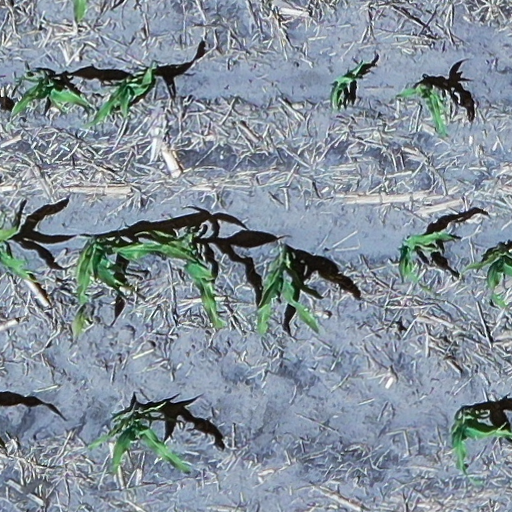planta: (110, 229, 225, 328), (88, 399, 196, 478), (69, 237, 134, 342), (256, 248, 319, 336), (83, 66, 156, 129), (11, 70, 90, 116), (399, 232, 453, 283), (399, 84, 448, 136), (331, 61, 365, 112)
